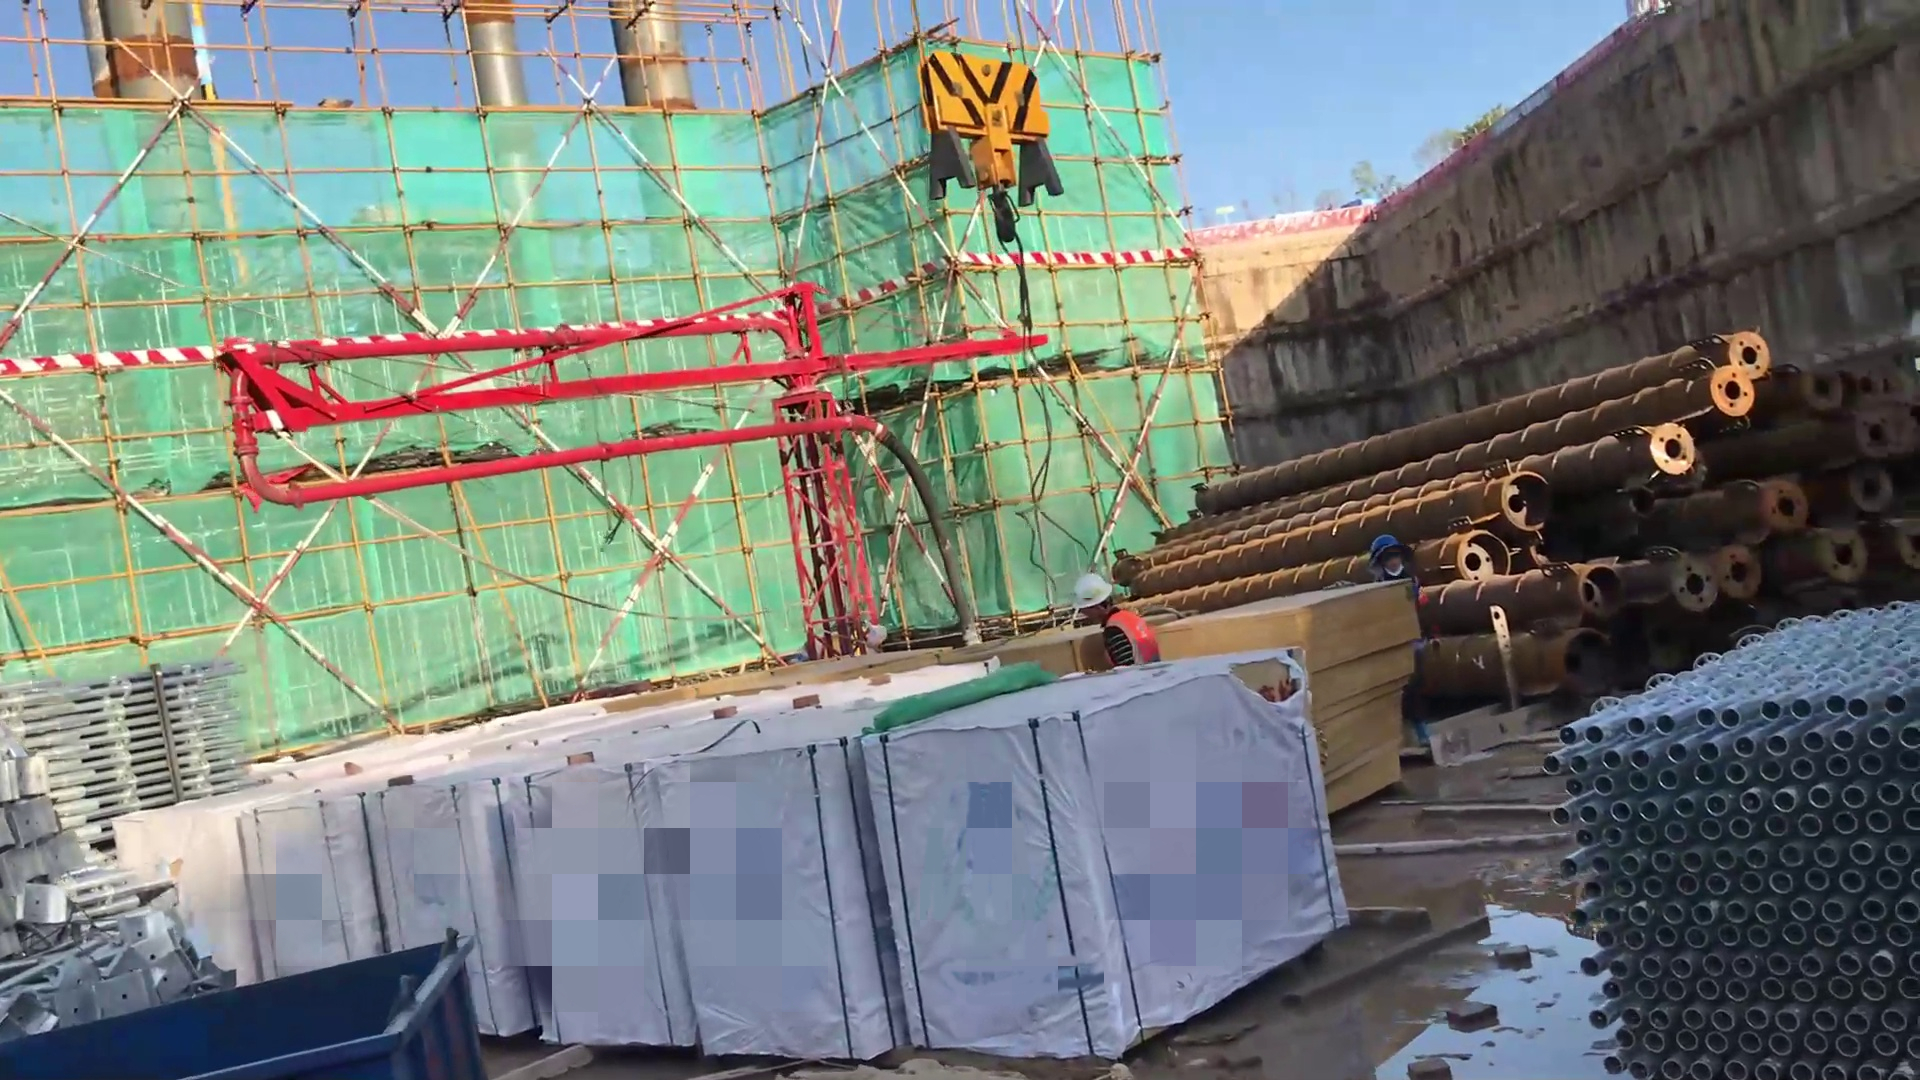board: (1165, 573, 1419, 811)
helmet: (1062, 565, 1140, 620), (1359, 530, 1418, 576)
hook: (905, 33, 1080, 252)
hopper: (1, 905, 498, 1077)
person: (1073, 567, 1166, 693)
scaffold: (1551, 571, 1920, 1078), (4, 627, 237, 842)
slogan: (1488, 78, 1563, 142)
vest: (1097, 604, 1161, 671)
